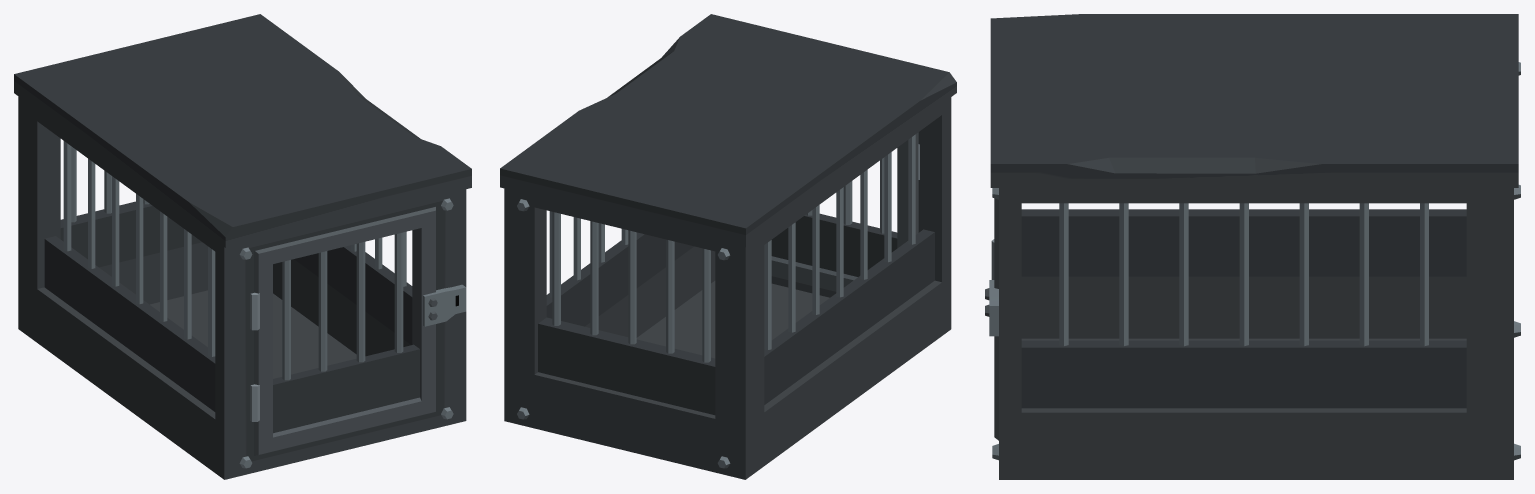
Rendered from SM_Prop_Cage_01.fbx.
3 views of the same model, side by side, from view 1: azimuth 30°, elevation 25°; view 2: azimuth 150°, elevation 25°; view 3: azimuth 270°, elevation 25° (orthographic). The views are drawn at different scales.
Visible parts, largest first — view 1: SM_Prop_Cage_01; view 2: SM_Prop_Cage_01; view 3: SM_Prop_Cage_01.
Boxes of the visible parts, <box> form: SM_Prop_Cage_01: <box>14,14,471,479</box>; SM_Prop_Cage_01: <box>500,14,956,479</box>; SM_Prop_Cage_01: <box>985,14,1520,479</box>.
Size of the model in its own units: 118 by 116 by 178.
